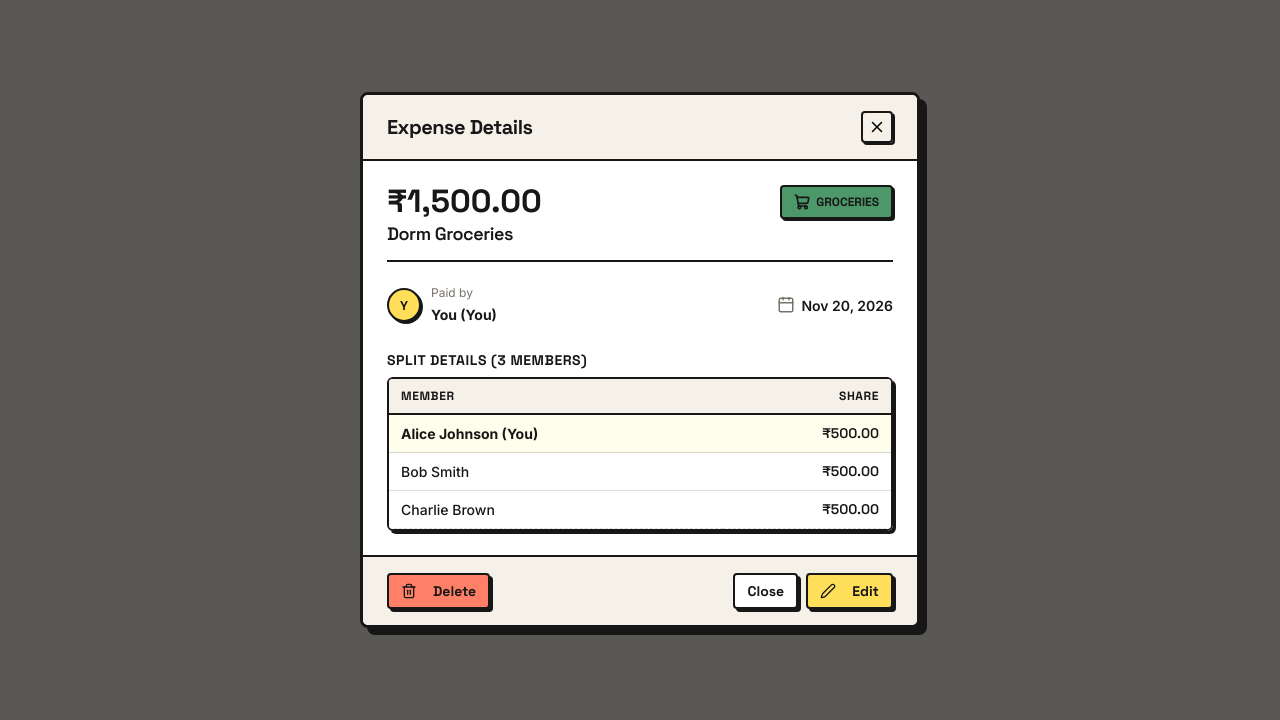
Expense Components › ExpenseDetailsModal Component › handles delete confirmation flow
The image size is (1280, 720).
Later steps or results of the test are not shown.
Step 1. Click the button "Delete" → x=439, y=591, box x1=387 y1=573 x2=490 y2=609
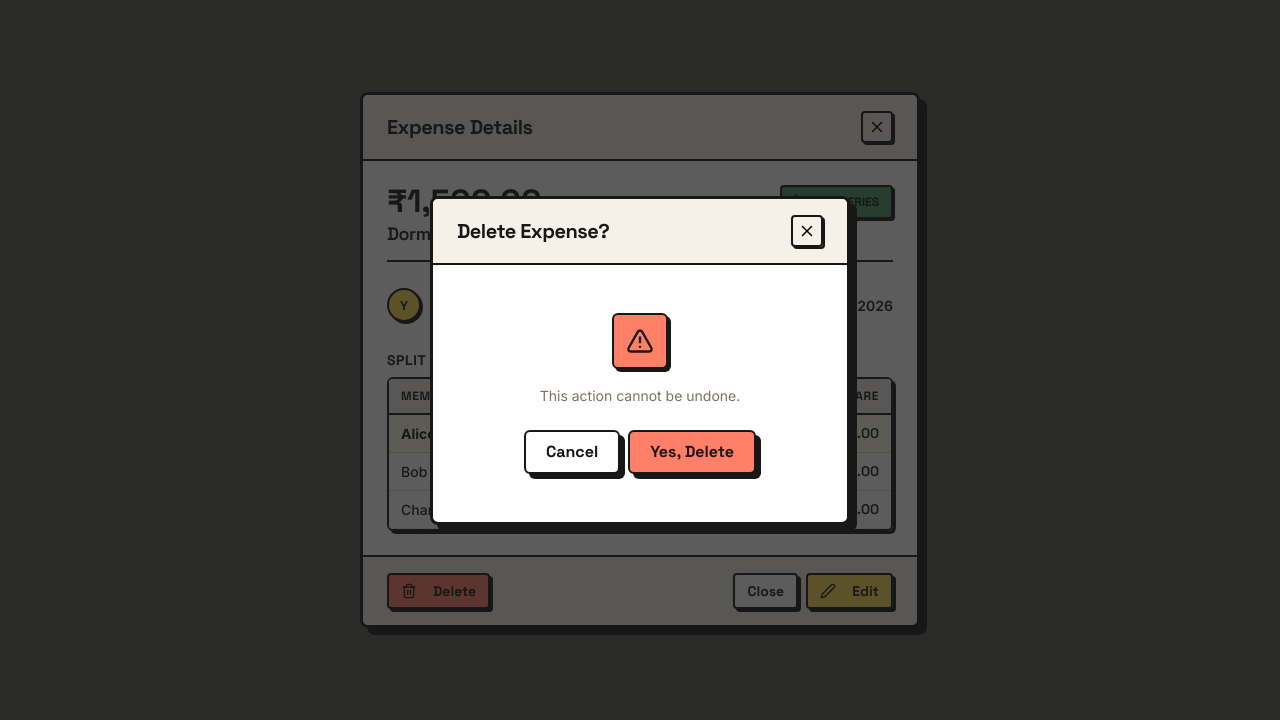
Check: the heading "Delete Expense?" is shown, box x1=457 y1=218 x2=609 y2=242
